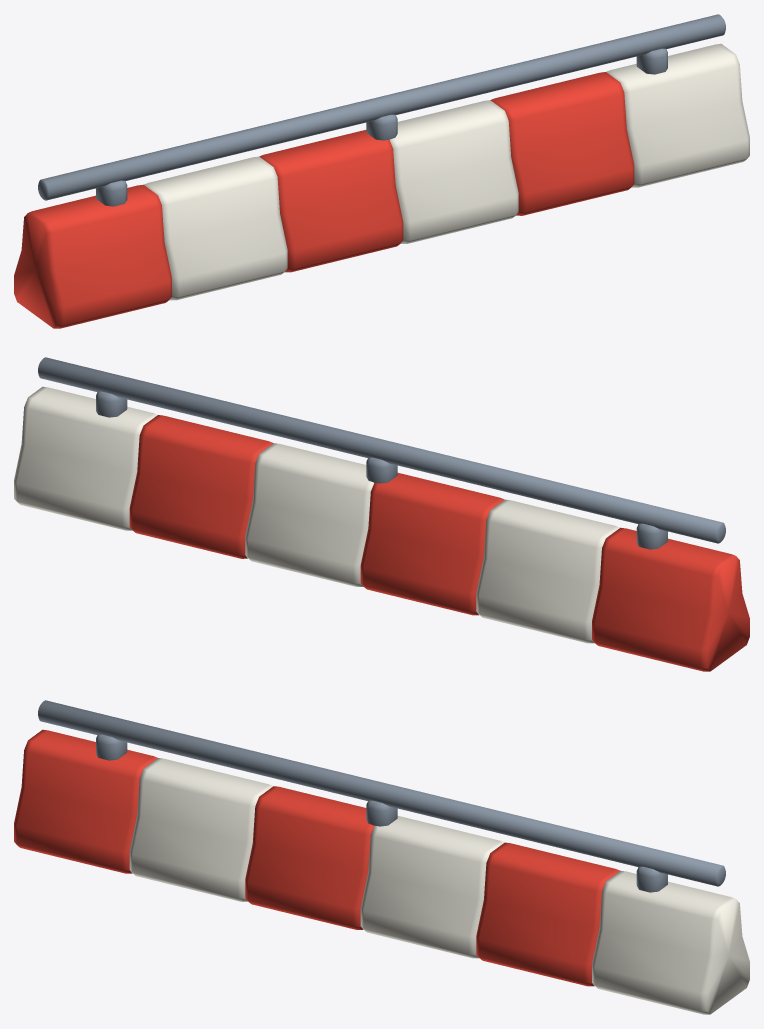
File: deco-valla.glb
3 renders of one model, top to bottom at view 1: azimuth 30°, elevation 25°; view 2: azimuth 150°, elevation 25°; view 3: azimuth 330°, elevation 25°, orthographic.
Visible parts, largest first — view 1: deco-valla; view 2: deco-valla; view 3: deco-valla.
Boxes of the visible parts, x1,y1,x2,y2 form: deco-valla: (14, 14, 749, 328); deco-valla: (14, 357, 749, 671); deco-valla: (14, 700, 749, 1014).
Bounding box in the file's own units: 6 × 1.1 × 0.7002.
